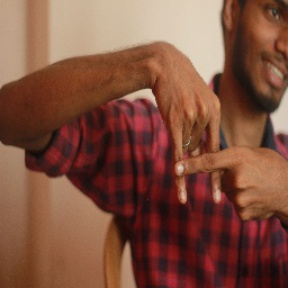H: (141, 107, 256, 223)
